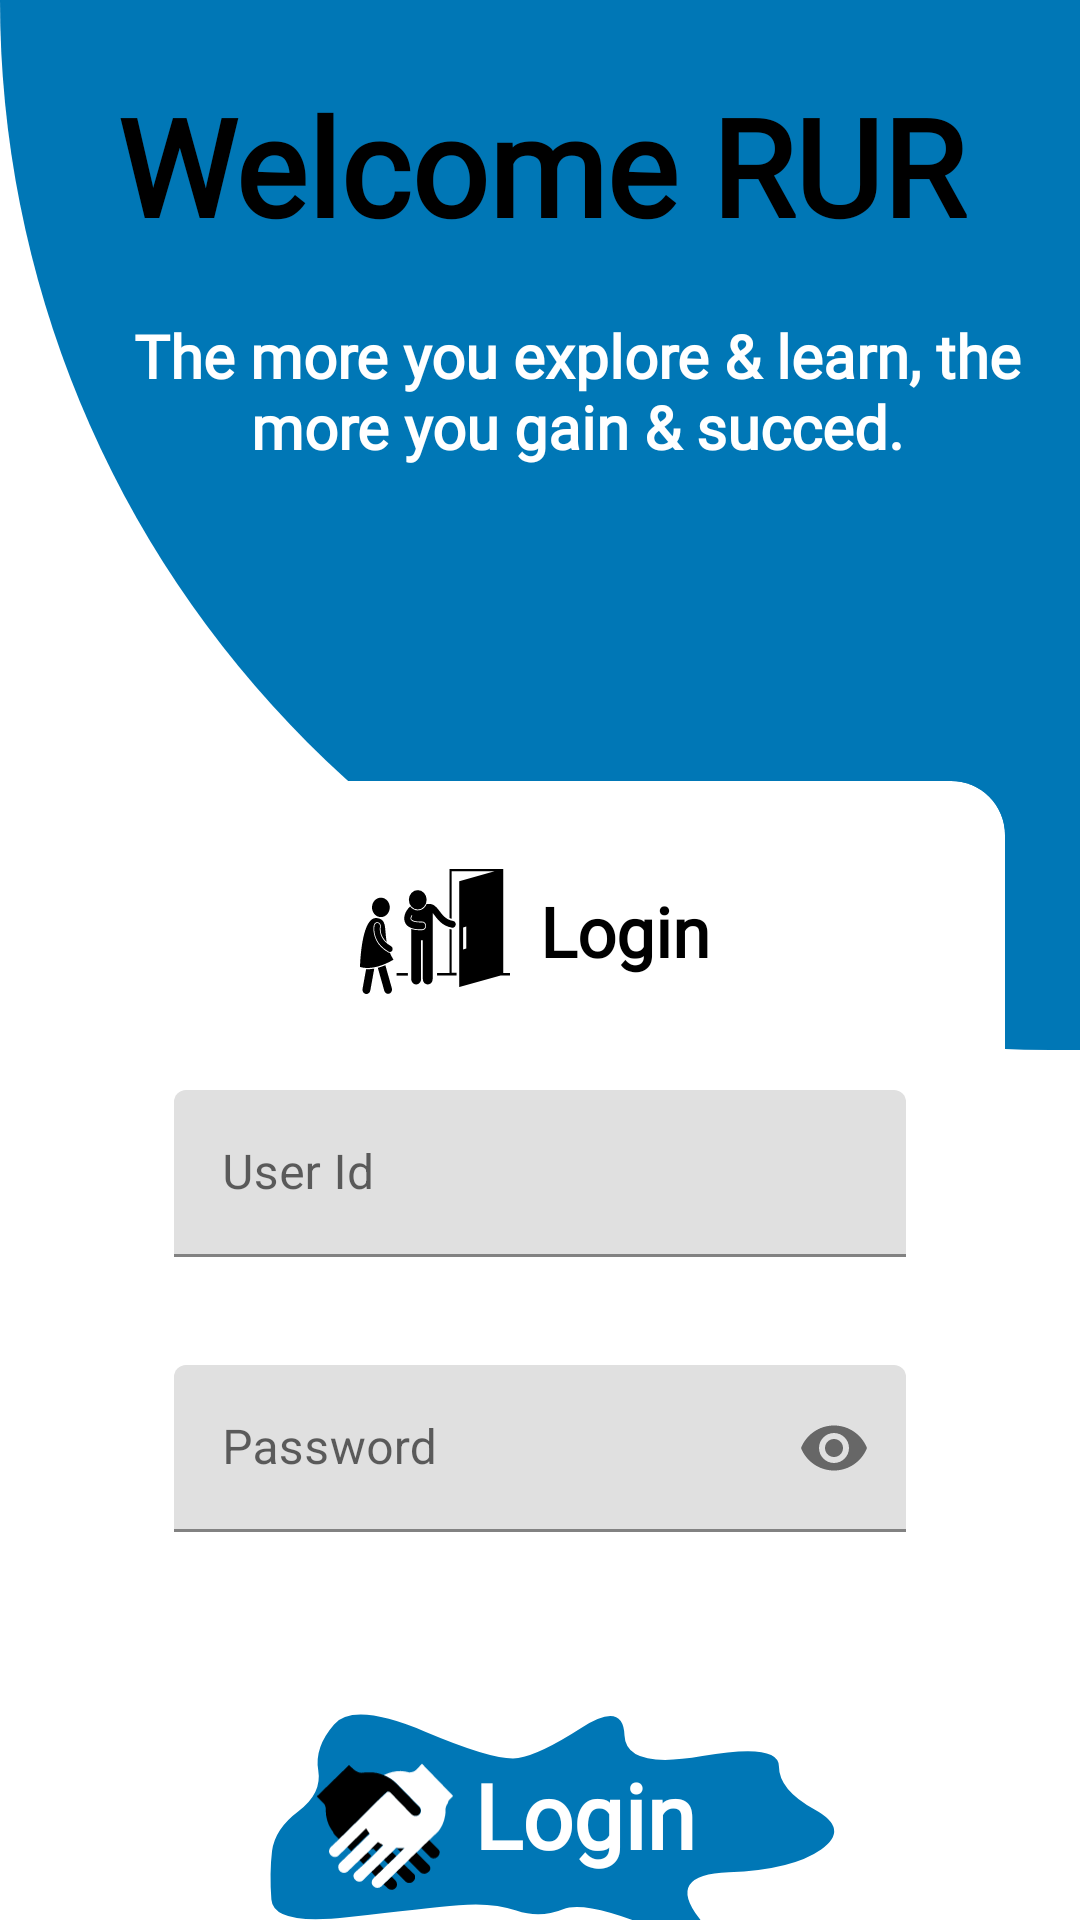

Named icons in this screenshot (1080*1920) and their bounding boxes, (x1,y1,x2,y2):
joinus: (317,1764,453,1890)
welcome: (360,869,510,994)
